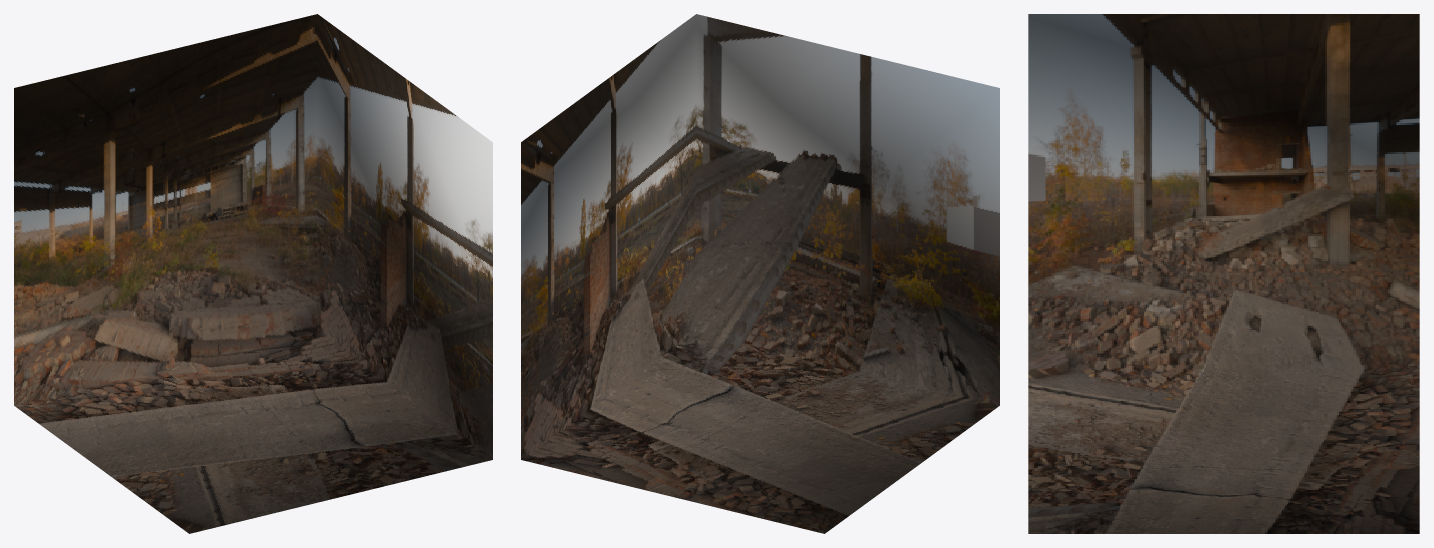
File: skybox02.glb
The picture shows the model from 3 angles, left to right: view 1: azimuth 30°, elevation 25°; view 2: azimuth 150°, elevation 25°; view 3: azimuth 270°, elevation 25°; orthographic projection. The views are drawn at different scales.
Parts seen in each view (by area): view 1: sky; view 2: sky; view 3: sky.
Part boxes in pixels (bbox=[...]): sky: bbox=[14, 14, 492, 533]; sky: bbox=[521, 14, 999, 533]; sky: bbox=[1028, 14, 1419, 533].
Bounding box in the file's own units: 16 × 16 × 16.
Materials: 6 (6 with a texture image).
